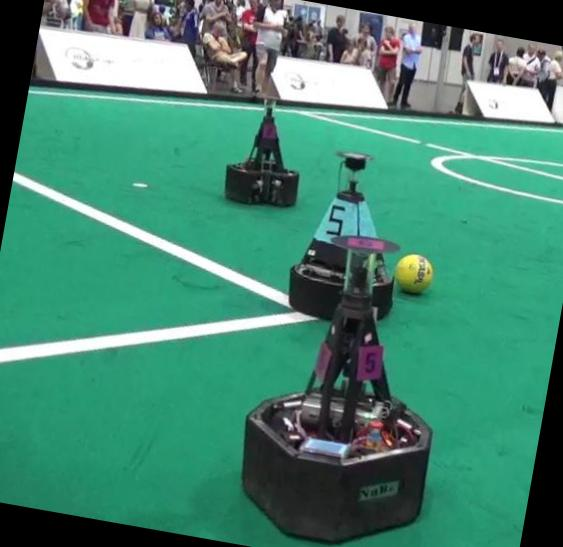ball: (394, 252, 433, 292)
robot: (241, 235, 432, 541), (289, 150, 375, 318), (224, 105, 298, 204)
